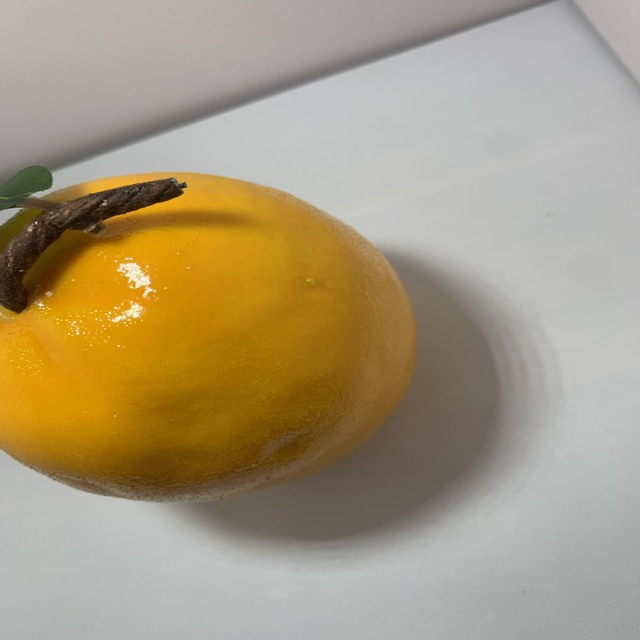Cam vang: (0, 159, 429, 508)
